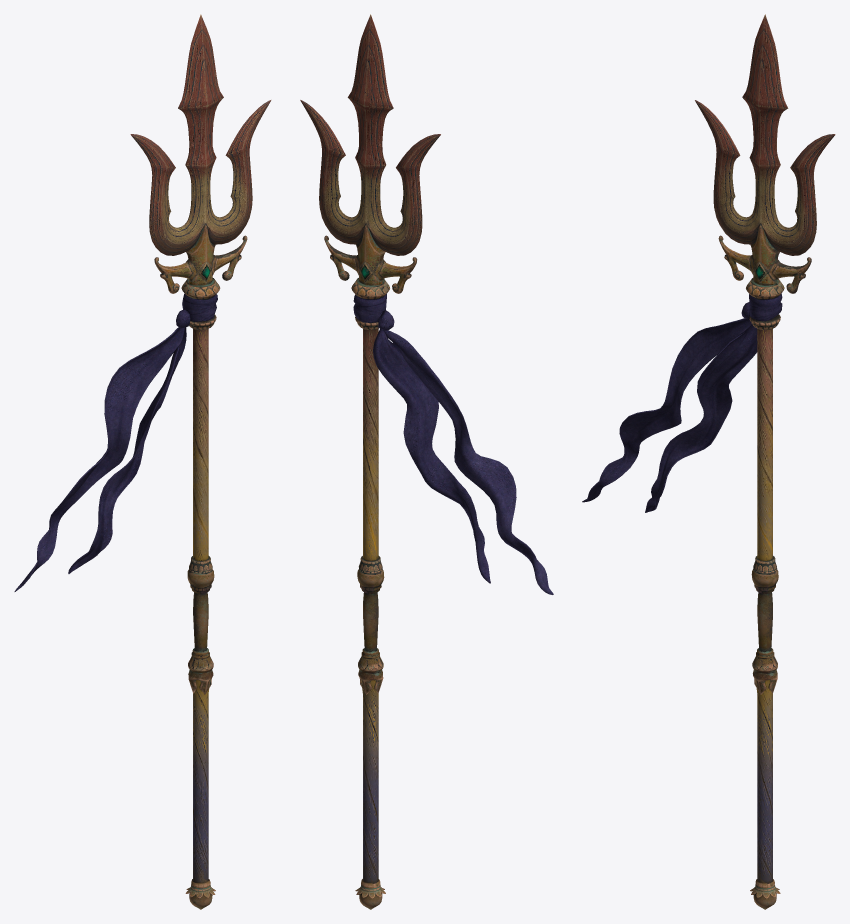
The model's file is lan016.obj.
3 renders of one model, left to right at view 1: azimuth 30°, elevation 25°; view 2: azimuth 150°, elevation 25°; view 3: azimuth 330°, elevation 25°, orthographic.
Parts seen in each view (by area): view 1: lan016_000_LOD_1, lan016_002_LOD_1, lan016_003_LOD_1, lan016_001_LOD_1; view 2: lan016_000_LOD_1, lan016_003_LOD_1, lan016_002_LOD_1, lan016_001_LOD_1; view 3: lan016_000_LOD_1, lan016_002_LOD_1, lan016_003_LOD_1, lan016_001_LOD_1.
Part boxes in pixels (left/top/right/bottom): lan016_000_LOD_1: left=130, top=14, right=271, bottom=909; lan016_002_LOD_1: left=14, top=327, right=184, bottom=591; lan016_003_LOD_1: left=68, top=327, right=186, bottom=573; lan016_001_LOD_1: left=176, top=293, right=217, bottom=328; lan016_000_LOD_1: left=300, top=14, right=440, bottom=909; lan016_003_LOD_1: left=373, top=328, right=490, bottom=583; lan016_002_LOD_1: left=384, top=330, right=553, bottom=594; lan016_001_LOD_1: left=353, top=294, right=394, bottom=330; lan016_000_LOD_1: left=695, top=14, right=835, bottom=909; lan016_002_LOD_1: left=582, top=318, right=751, bottom=502; lan016_003_LOD_1: left=645, top=324, right=757, bottom=512; lan016_001_LOD_1: left=741, top=293, right=782, bottom=321.
Size of the model in its own units: 110 by 368 by 15.56.
